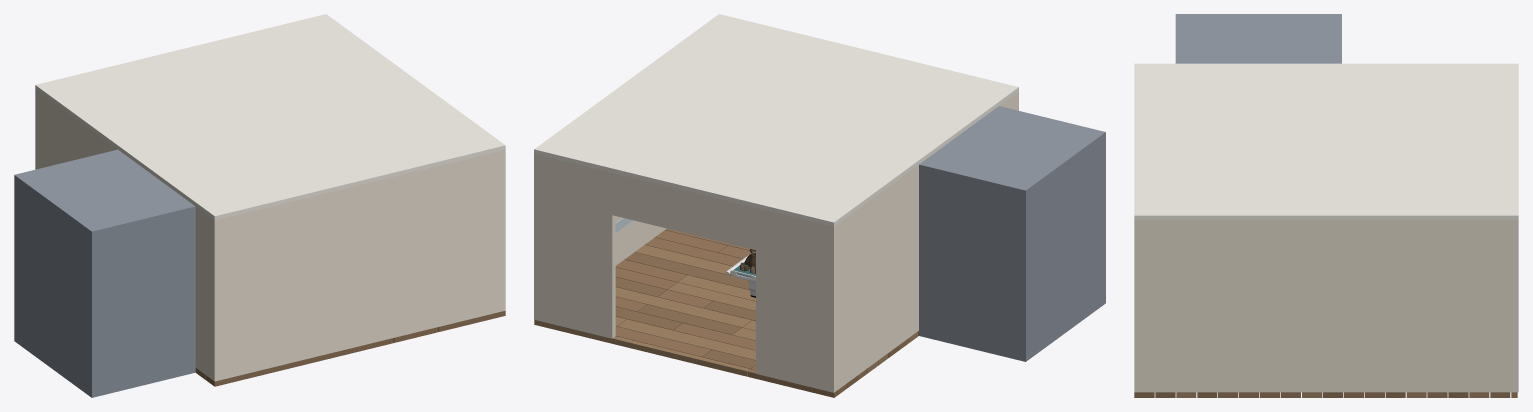
The model's file is mri_suite.glb.
3 renders of one model, left to right at view 1: azimuth 30°, elevation 25°; view 2: azimuth 150°, elevation 25°; view 3: azimuth 270°, elevation 25°, orthographic. The views are drawn at different scales.
Visible parts, largest first — view 1: SuiteCeiling, SuiteWallBack, CtrlBackWall, SuiteWallLeft, SuiteFloor, CtrlFloor; view 2: SuiteCeiling, CtrlBackWall, SuiteFloor, SuiteWallLeft, WallShared_L, WallShared_R, WallShared_Top, SuiteWallRight, CtrlFloor; view 3: SuiteWallRight, SuiteCeiling, CtrlBackWall, SuiteFloor, SuiteWallBack, WallShared_R.
Part boxes in pixels (bbox=[...]): SuiteCeiling: bbox=[35, 14, 505, 220]; SuiteWallBack: bbox=[211, 149, 505, 381]; CtrlBackWall: bbox=[14, 149, 195, 392]; SuiteWallLeft: bbox=[38, 92, 211, 378]; SuiteFloor: bbox=[195, 310, 505, 386]; CtrlFloor: bbox=[14, 336, 195, 397]; SuiteCeiling: bbox=[534, 14, 1018, 226]; CtrlBackWall: bbox=[919, 106, 1105, 356]; SuiteFloor: bbox=[534, 228, 918, 397]; SuiteWallLeft: bbox=[837, 94, 1015, 389]; WallShared_L: bbox=[756, 208, 837, 392]; WallShared_R: bbox=[534, 153, 615, 338]; WallShared_Top: bbox=[612, 173, 755, 249]; SuiteWallRight: bbox=[615, 216, 666, 265]; CtrlFloor: bbox=[919, 298, 1105, 361]; SuiteWallRight: bbox=[1141, 220, 1511, 392]; SuiteCeiling: bbox=[1134, 63, 1518, 219]; CtrlBackWall: bbox=[1175, 14, 1341, 63]; SuiteFloor: bbox=[1134, 392, 1517, 397]; SuiteWallBack: bbox=[1134, 220, 1141, 392]; WallShared_R: bbox=[1511, 220, 1518, 392].
Bounding box in the file's own units: 7.92 × 3.27 × 6.24.
Materials: 18 (3 with a texture image).
